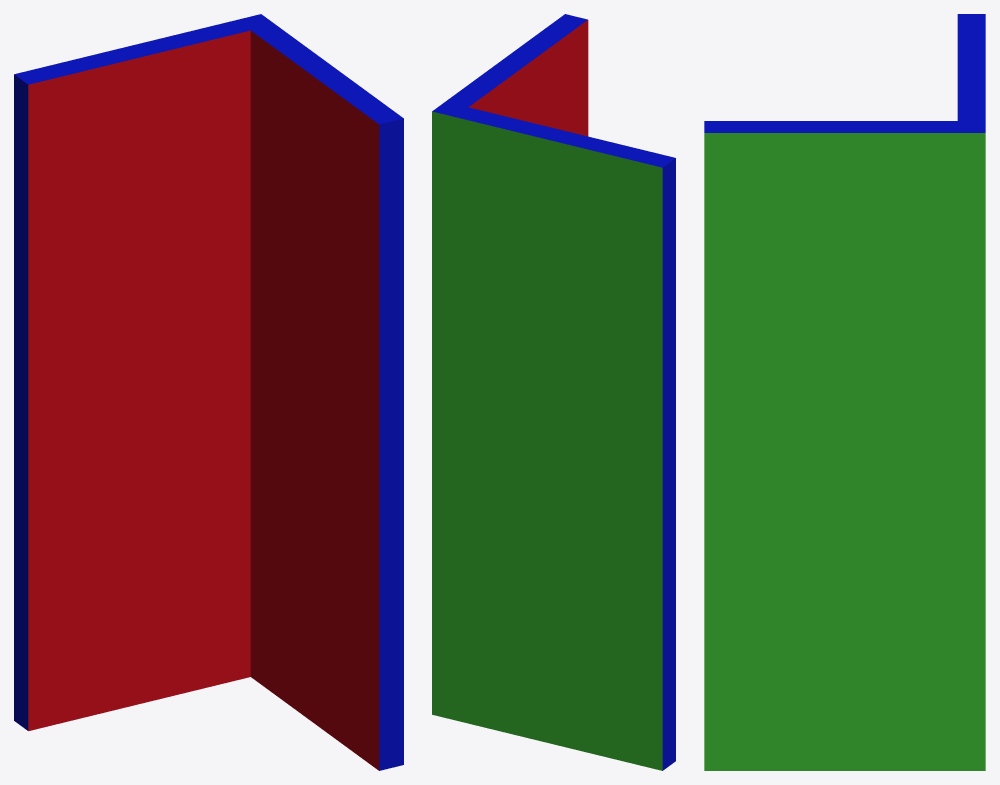
File: WallCornerFull.FBX
The picture shows the model from 3 angles, left to right: view 1: azimuth 30°, elevation 25°; view 2: azimuth 150°, elevation 25°; view 3: azimuth 270°, elevation 25°; orthographic projection. The views are drawn at different scales.
Visible parts, largest first — view 1: WallCorner; view 2: WallCorner; view 3: WallCorner.
Boxes of the visible parts, x1,y1,x2,y2 form: WallCorner: (14, 14, 403, 770); WallCorner: (432, 14, 675, 770); WallCorner: (704, 14, 985, 770).
Bounding box in the file's own units: 100 × 250 × 100.
